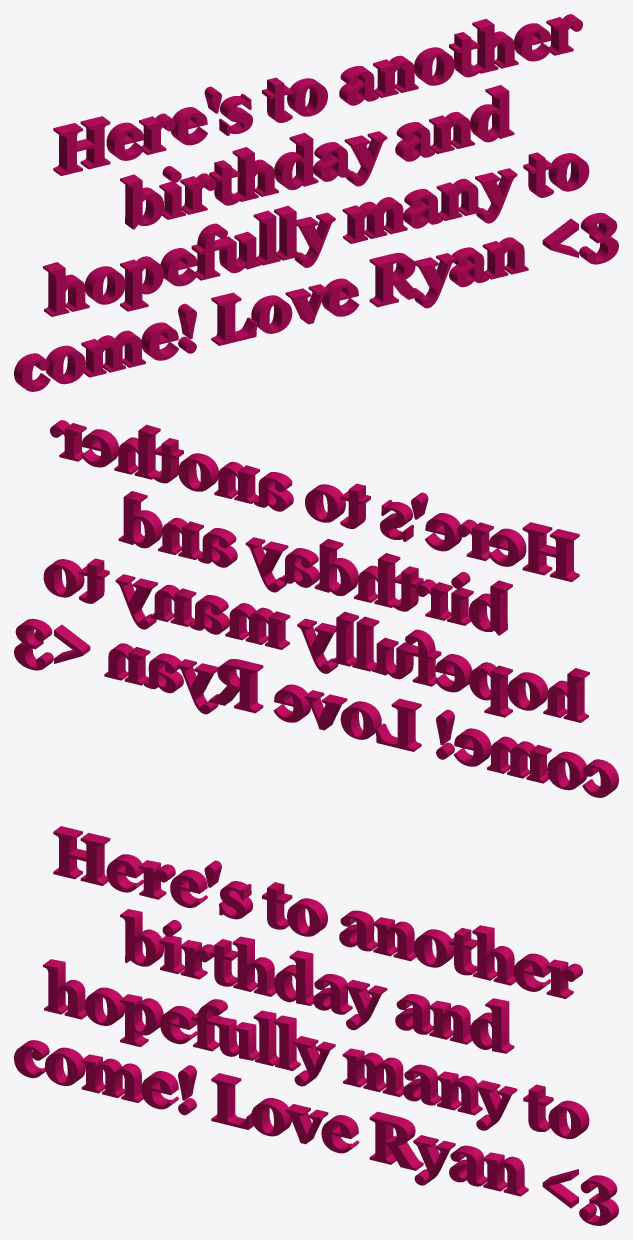
File: heres.gltf
3 renders of one model, top to bottom at view 1: azimuth 30°, elevation 25°; view 2: azimuth 150°, elevation 25°; view 3: azimuth 330°, elevation 25°, orthographic.
Visible parts, largest first — view 1: node_id63 (×4); view 2: node_id63 (×4); view 3: node_id63 (×4).
Boxes of the visible parts, x1,y1,x2,y2 form: node_id63 (×4): (14, 14, 618, 391); node_id63 (×4): (14, 420, 618, 797); node_id63 (×4): (14, 826, 618, 1225).
Size of the model in its own units: 0.00654 by 0.0028 by 0.00015.
